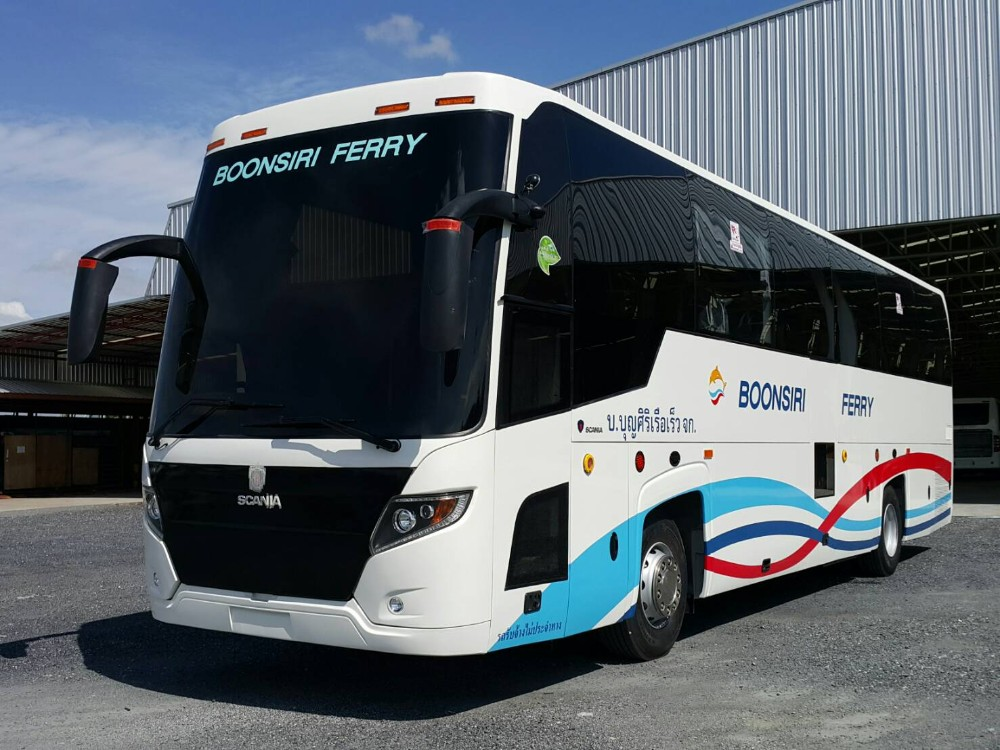bus: (136, 67, 952, 659)
